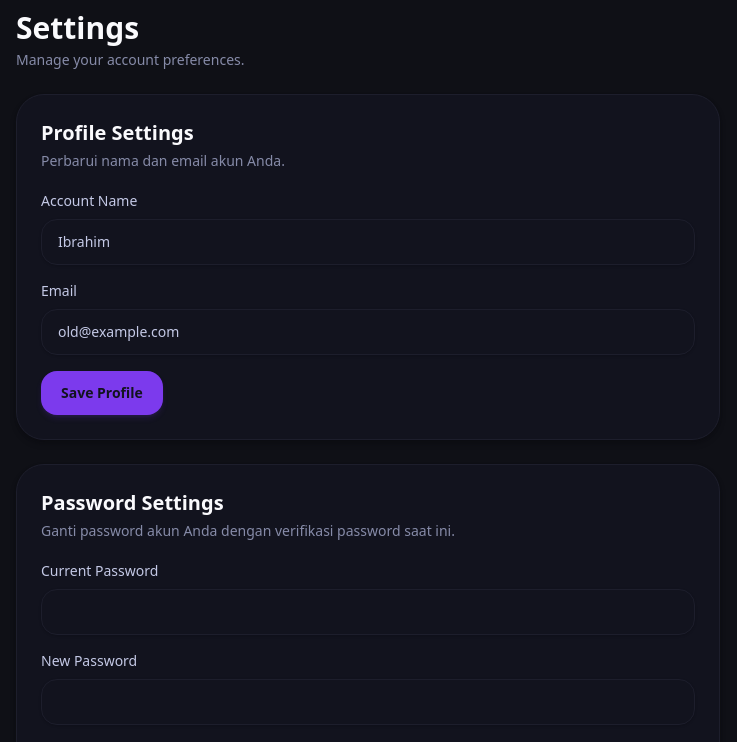
updates the profile and refreshes authenticated user data
This screenshot has width=737, height=742.
Replace the text in the field labelled "Account Name" with "Updated" at (368, 242), box [41, 219, 695, 265]
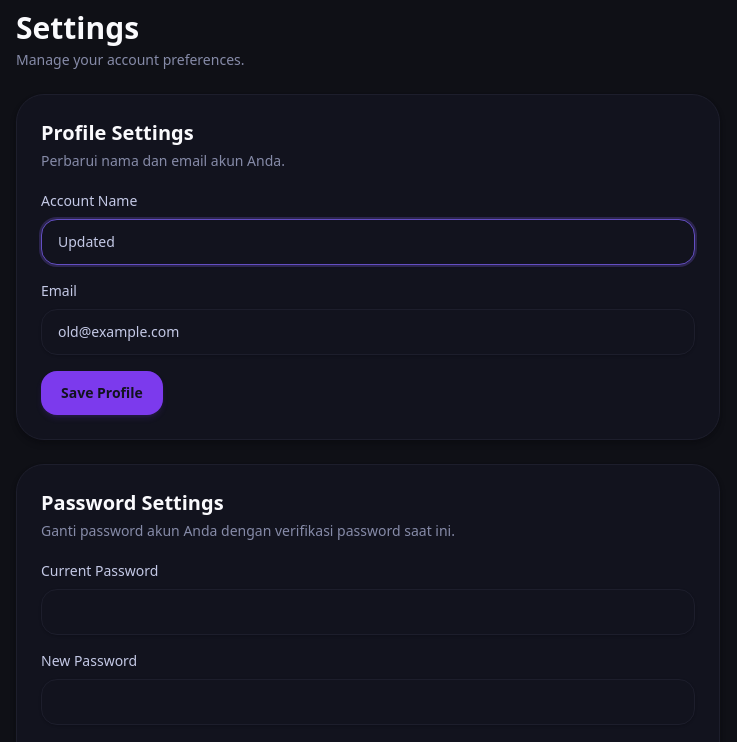
Replace the text in the field labelled "Email" with "new@example.com" at (368, 332), box [41, 309, 695, 355]
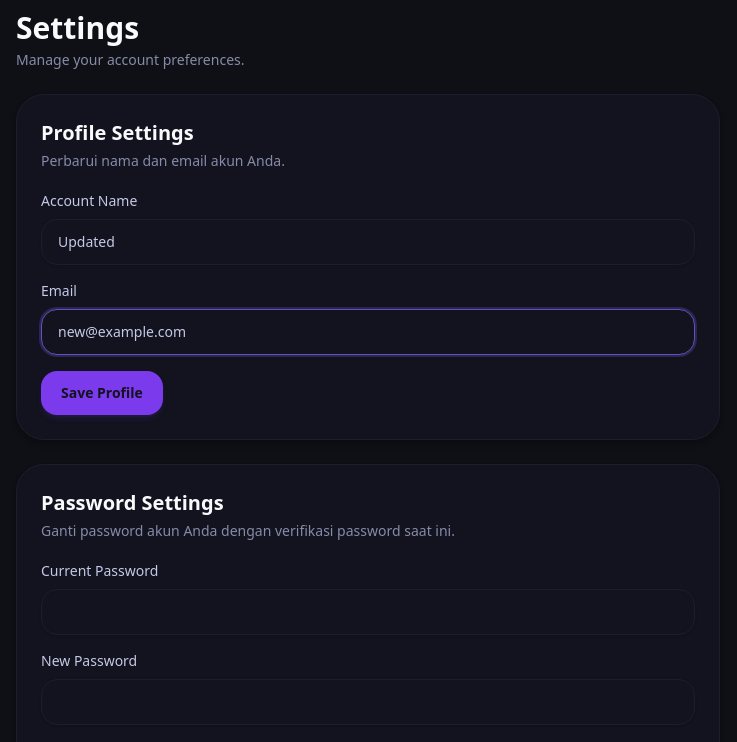
Click the button "Save Profile".
click(102, 393)  # box [41, 371, 163, 415]
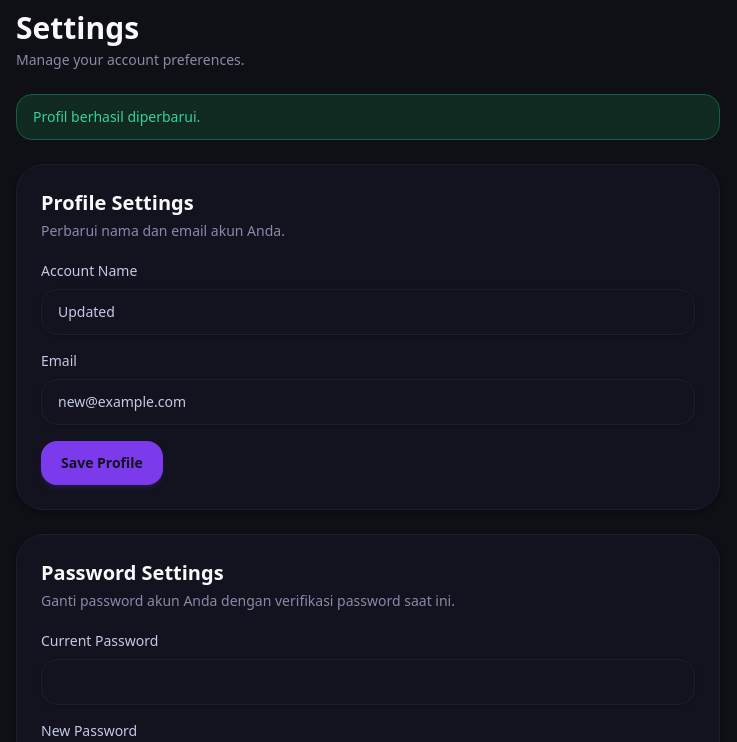
Result: the text "Profil berhasil diperbarui." is shown at [16, 94, 720, 140]
